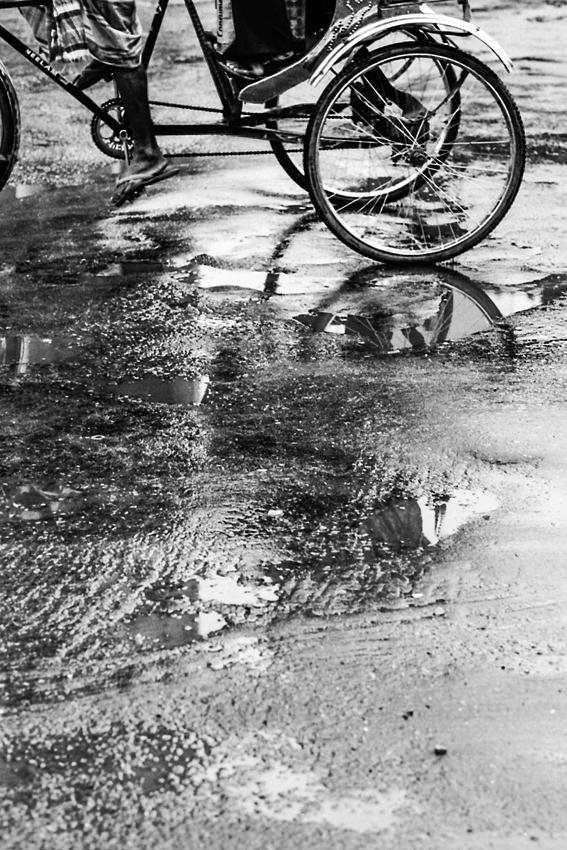Rickshaw: (12, 6, 529, 284)
